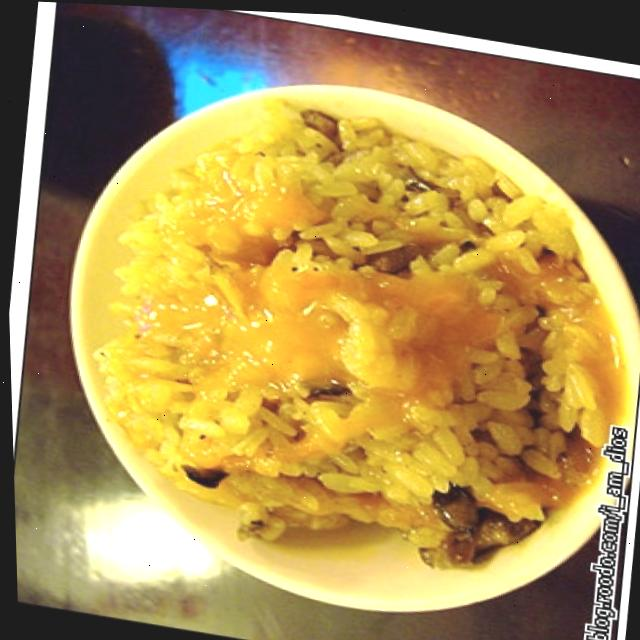米饭主食: (10, 26, 640, 640)
